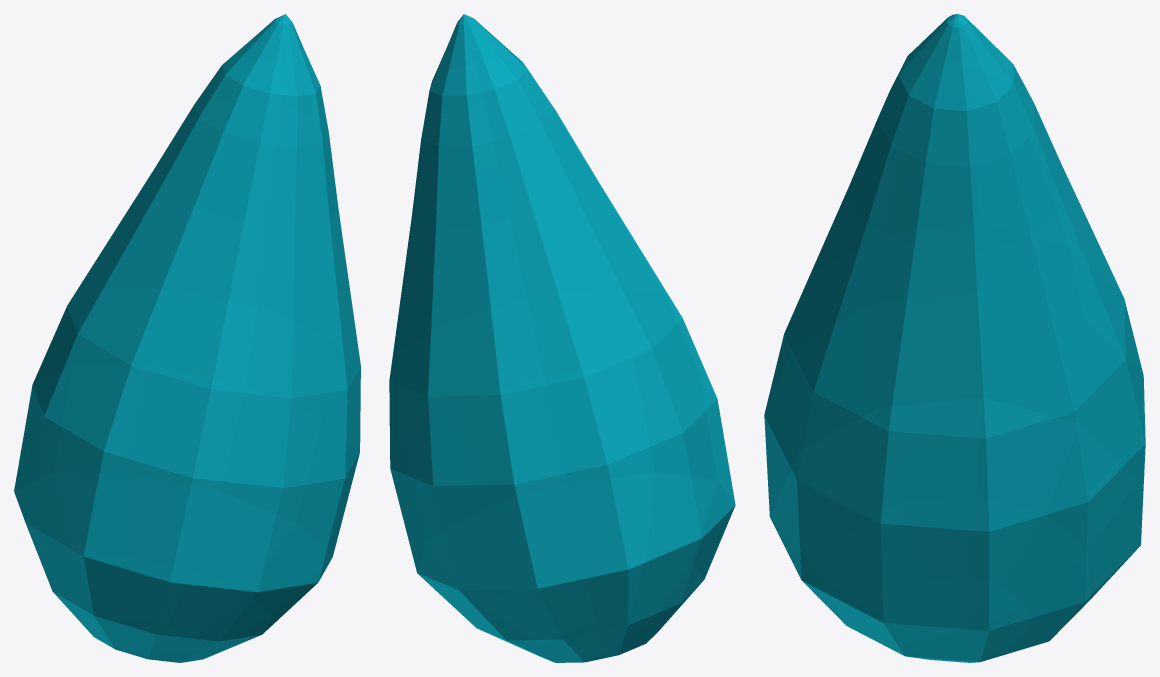
The model's file is droplet.fbx.
3 renders of one model, left to right at view 1: azimuth 30°, elevation 25°; view 2: azimuth 150°, elevation 25°; view 3: azimuth 270°, elevation 25°, orthographic. The views are drawn at different scales.
Parts seen in each view (by area): view 1: droplet; view 2: droplet; view 3: droplet.
Boxes of the visible parts, box(x1,y1,x2,y2) form: droplet: box(14, 14, 360, 662); droplet: box(389, 14, 735, 662); droplet: box(764, 14, 1145, 662).
Size of the model in its own units: 1.59 by 3.04 by 1.51.
